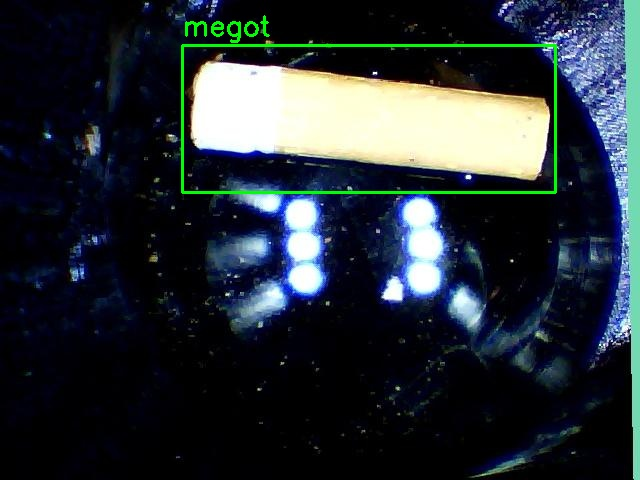megot: (182, 45, 555, 192)
